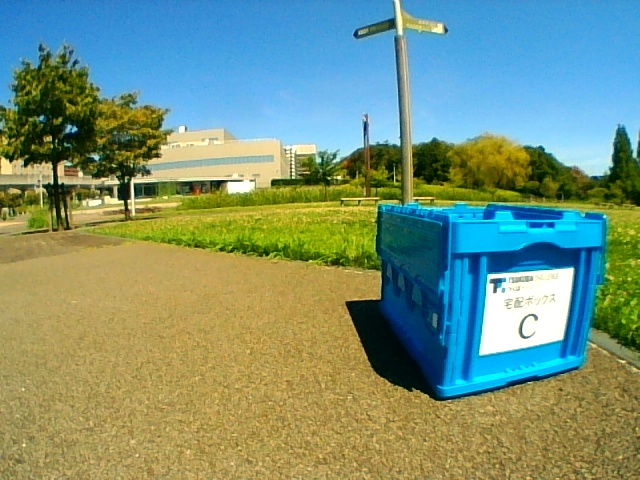blue_box: (436, 207, 586, 368)
tag_c: (491, 279, 559, 343)
